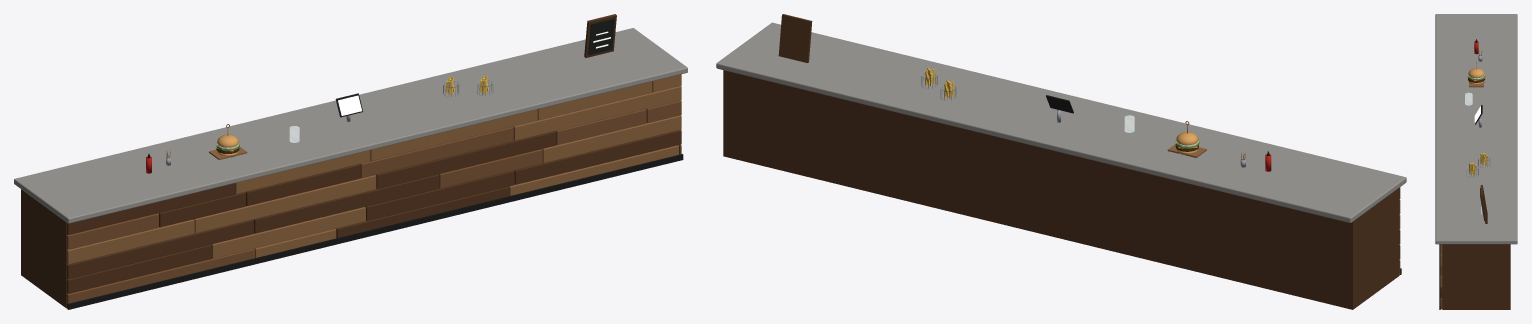
File: counter.glb
The picture shows the model from 3 angles, left to right: view 1: azimuth 30°, elevation 25°; view 2: azimuth 150°, elevation 25°; view 3: azimuth 270°, elevation 25°; orthographic projection. The views are drawn at different scales.
Visible parts, largest first — view 1: top, kick, body, plank.009, plank.010, plank.014, plank.015, plank.022, plank.008, plank.006, plank.021, plank.007 (+18 smaller); view 2: body, top, hh_frame; view 3: top, body, hh_frame, bun_top, kick, tip_jar, fry_basket, fry_basket.001.
Boxes of the visible parts, x1=… form: top: x1=14, y1=28, x2=687, y2=223; kick: x1=67, y1=154, x2=683, y2=309; body: x1=21, y1=92, x2=678, y2=308; plank.009: x1=67, y1=219, x2=253, y2=279; plank.010: x1=254, y1=174, x2=439, y2=233; plank.014: x1=194, y1=175, x2=376, y2=233; plank.015: x1=376, y1=131, x2=556, y2=188; plank.022: x1=513, y1=86, x2=681, y2=140; plank.008: x1=514, y1=130, x2=681, y2=184; plank.006: x1=211, y1=207, x2=365, y2=258; plank.021: x1=360, y1=127, x2=513, y2=177; plank.007: x1=365, y1=170, x2=514, y2=220; body: x1=723, y1=70, x2=1399, y2=309; top: x1=716, y1=22, x2=1406, y2=222; hh_frame: x1=778, y1=14, x2=812, y2=62; top: x1=1435, y1=14, x2=1517, y2=244; body: x1=1442, y1=244, x2=1510, y2=309; hh_frame: x1=1480, y1=185, x2=1487, y2=223; bun_top: x1=1468, y1=68, x2=1484, y2=78; kick: x1=1439, y1=244, x2=1440, y2=309; tip_jar: x1=1465, y1=92, x2=1472, y2=105; fry_basket: x1=1478, y1=156, x2=1490, y2=168; fry_basket.001: x1=1466, y1=166, x2=1478, y2=177.
Size of the model in its own units: 7.06 by 1.46 by 1.08.
